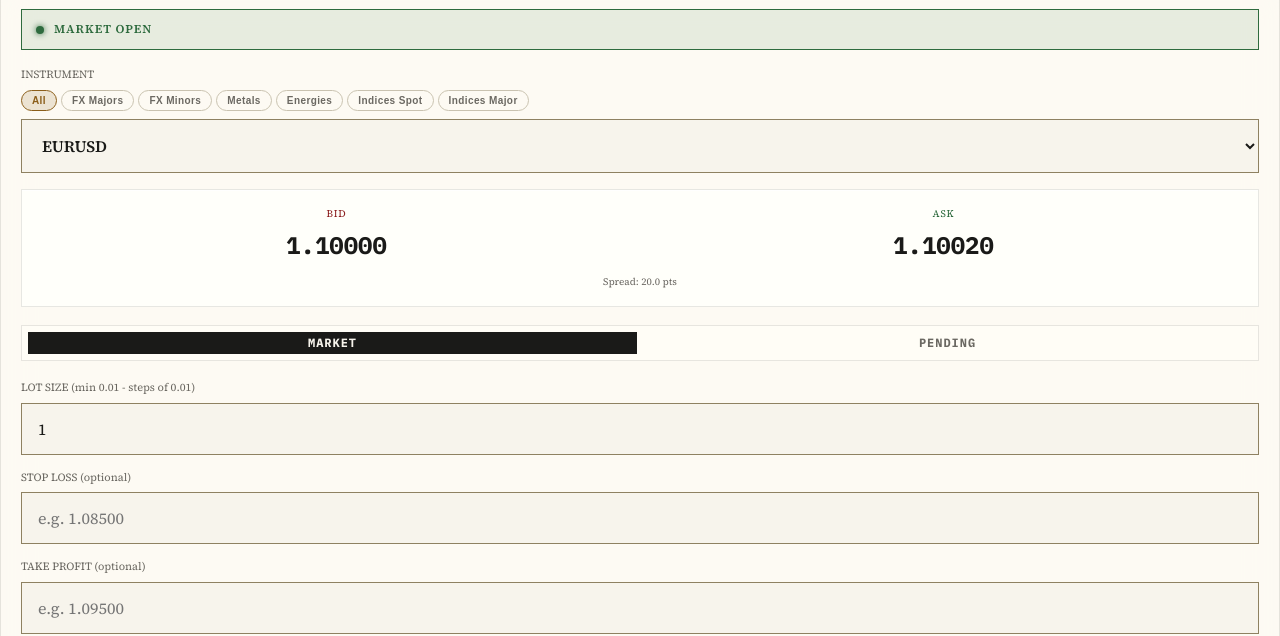
OrderPanel › does not submit a pending order when no price has been entered
Later steps or results of the test are not shown.
Step 1. Click the button "Pending" → {"x": 948, "y": 343}, box [643, 332, 1252, 354]
(page scrolled)
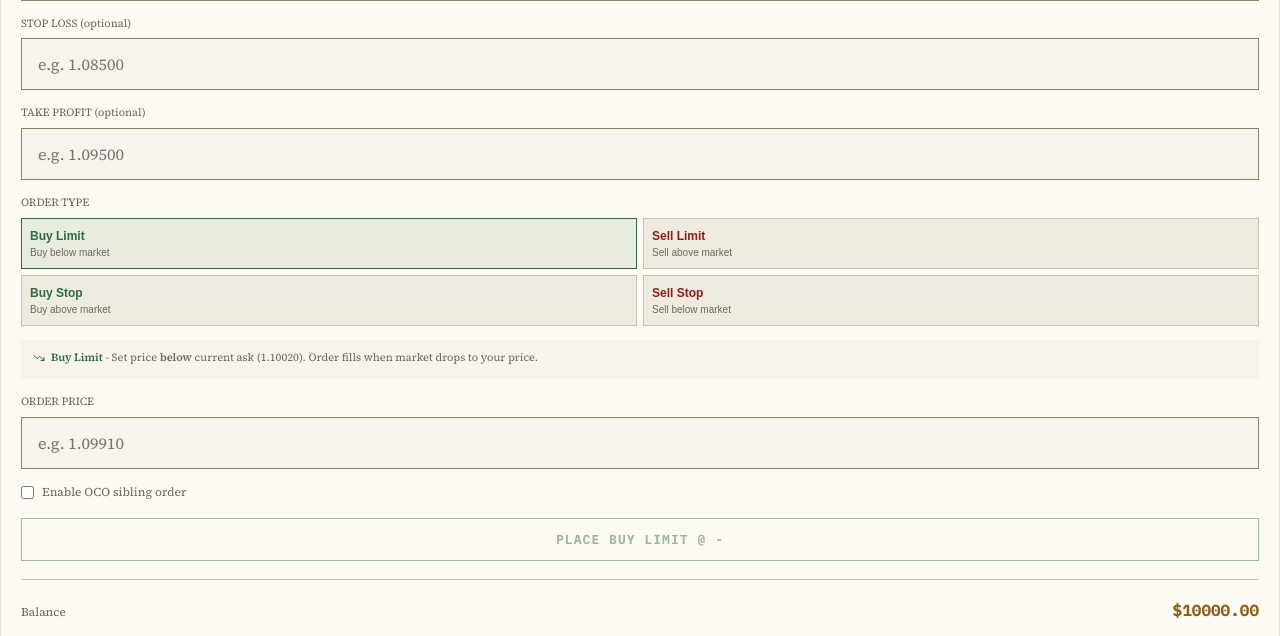
expect the button "Place BUY LIMIT @ -" is disabled: met, box [21, 518, 1259, 561]
